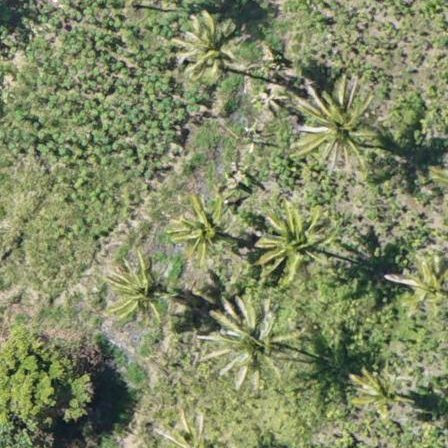palm_tree: (205, 296, 292, 389), (295, 79, 381, 171), (253, 198, 338, 289), (103, 252, 178, 331), (169, 191, 239, 266), (176, 11, 244, 84), (394, 249, 448, 316), (353, 364, 406, 422)
